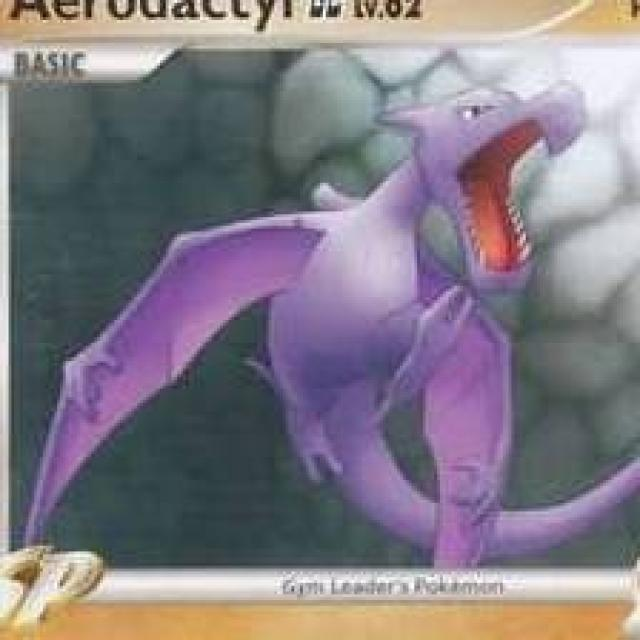Aerodactyl: (177, 88, 596, 572)
